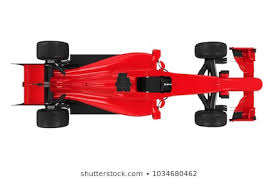FormulaOneCar: (8, 38, 261, 135)
